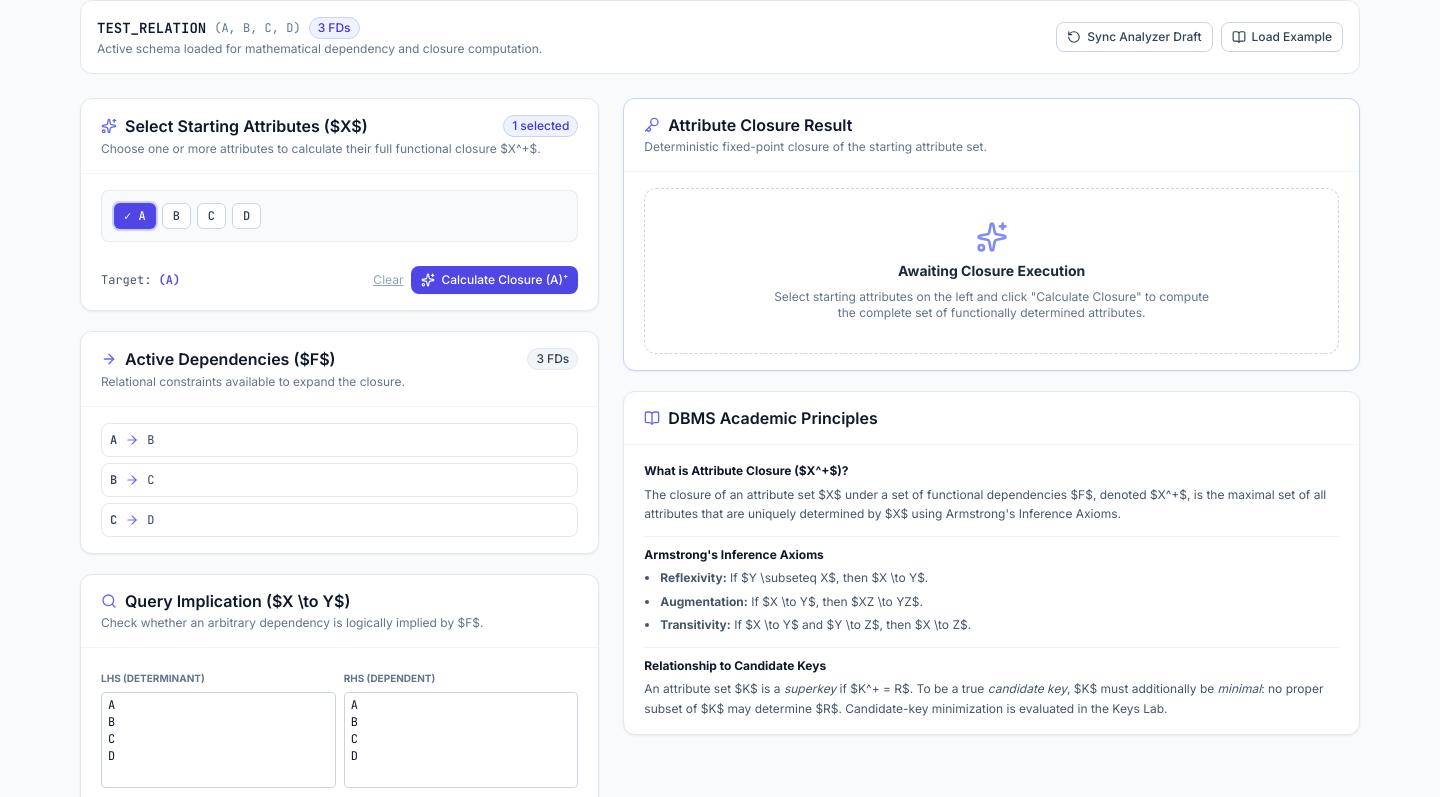
Test: ClosureLab Component (Phase 3) › handles backend response with lhs/rhs aliases gracefully without crashing into blank screen
The image size is (1440, 797).
Click the button "Calculate Closure (A)⁺".
click(495, 280)  # box [411,266,578,294]
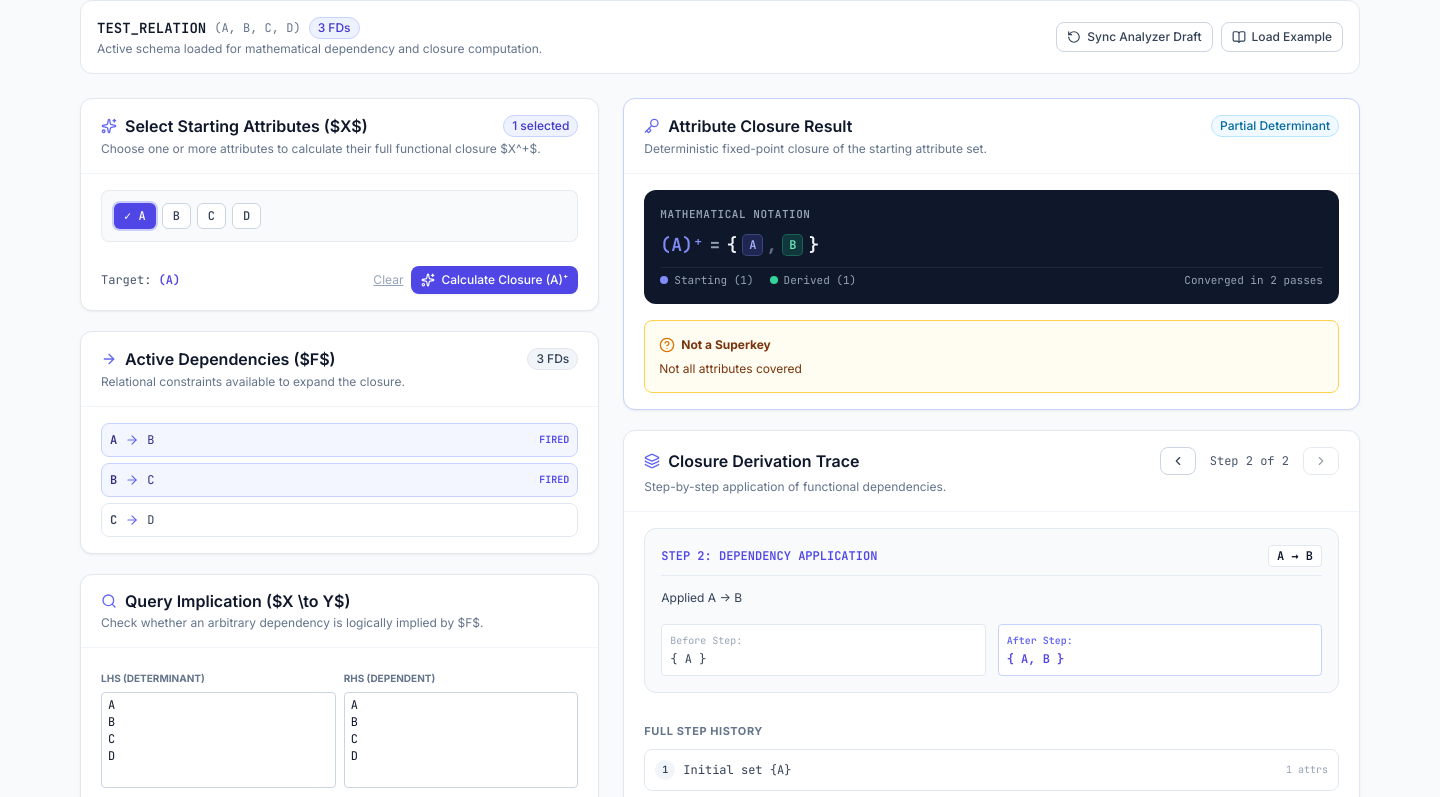
Expected: the heading "Closure Derivation Trace" is shown, [644,451,859,471]
Expected: the text "A → B" is shown, [1268,545,1322,567]
